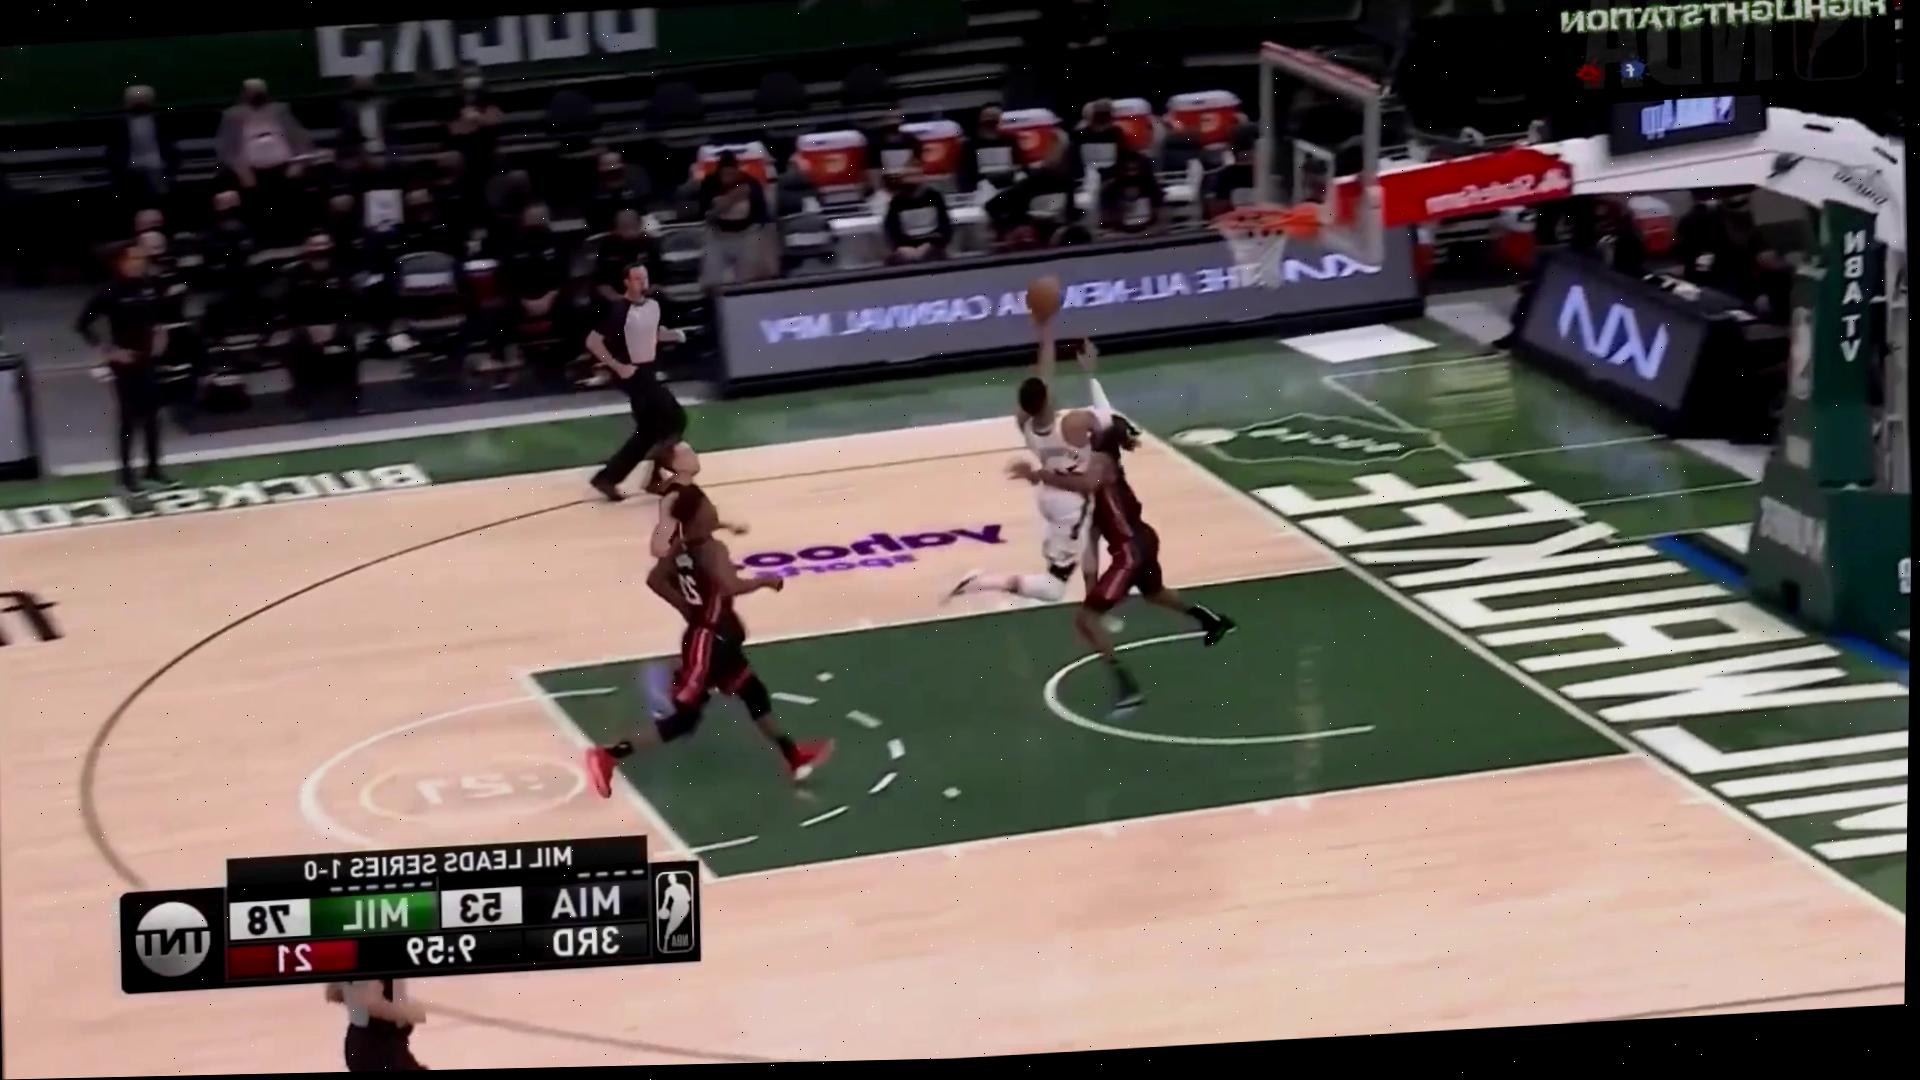foul: (947, 353, 1241, 704)
